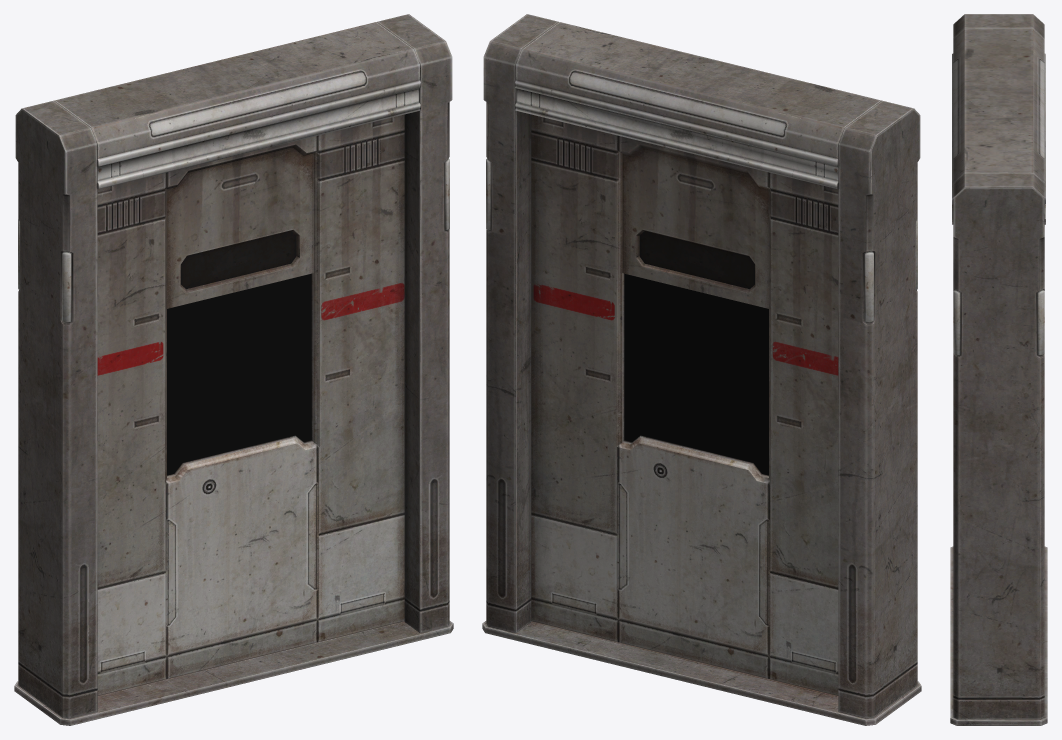
Rendered from slidedoor_theta_small_windowed.dae.
3 renders of one model, left to right at view 1: azimuth 30°, elevation 25°; view 2: azimuth 150°, elevation 25°; view 3: azimuth 270°, elevation 25°, orthographic. The views are drawn at different scales.
Visible parts, largest first — view 1: door__2_, frame__2_, window; view 2: door__2_, frame__2_, window; view 3: frame__2_.
Boxes of the visible parts, bbox=[...] form: door__2_: bbox=[97, 114, 404, 695]; frame__2_: bbox=[14, 14, 453, 725]; window: bbox=[167, 274, 311, 475]; door__2_: bbox=[531, 114, 838, 695]; frame__2_: bbox=[482, 14, 921, 725]; window: bbox=[624, 274, 768, 475]; frame__2_: bbox=[950, 14, 1047, 725].
Bounding box in the file's own units: 2.28 × 3.25 × 0.5349.
